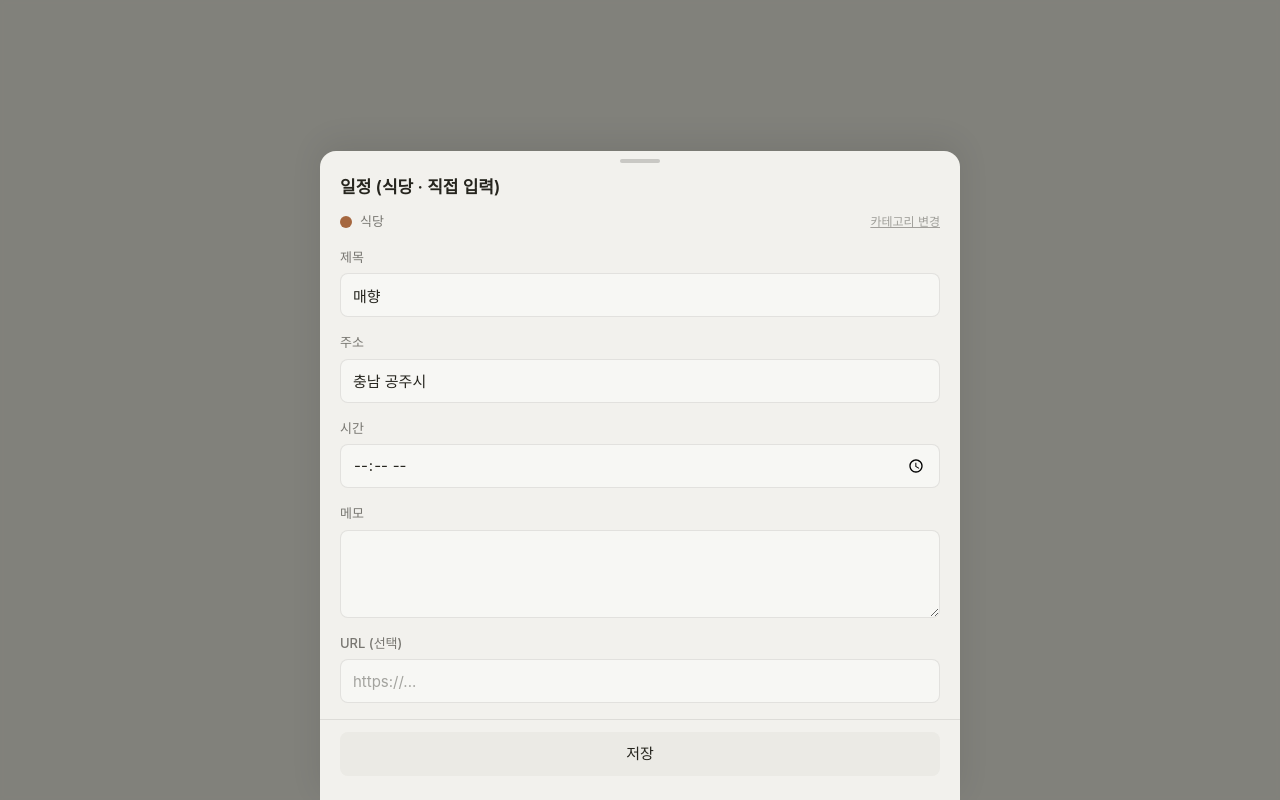
Scenario: schedule-item-modal — 편집 중 카테고리 변경 › 직접 입력(수기 주소) 일정도 카테고리 변경 후 저장이 가능하다
Check: the field labelled "주소" holds "충남 공주시", box [340,358,940,402]
Click the button "카테고리 변경": (905,222) [870,213,940,231]
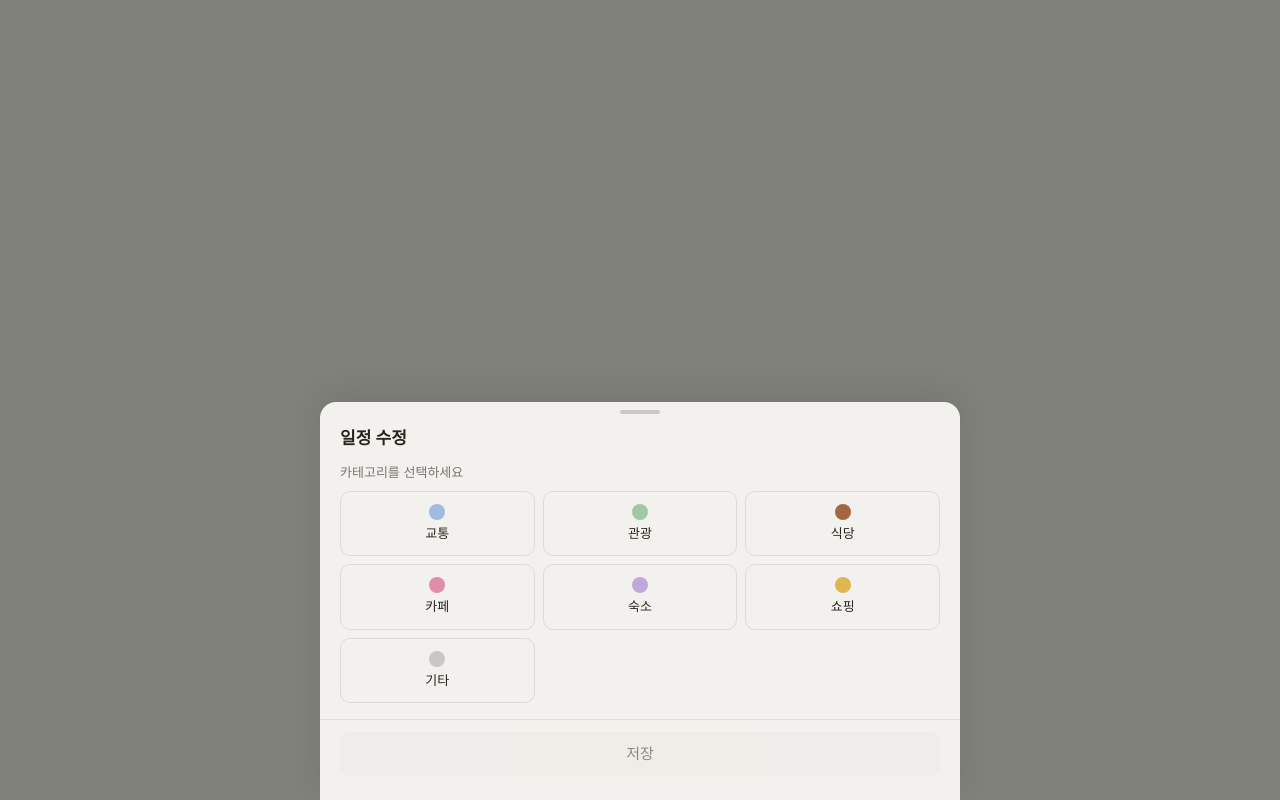
Click the radio button labelled "카페": (437,597) [340,564,535,630]
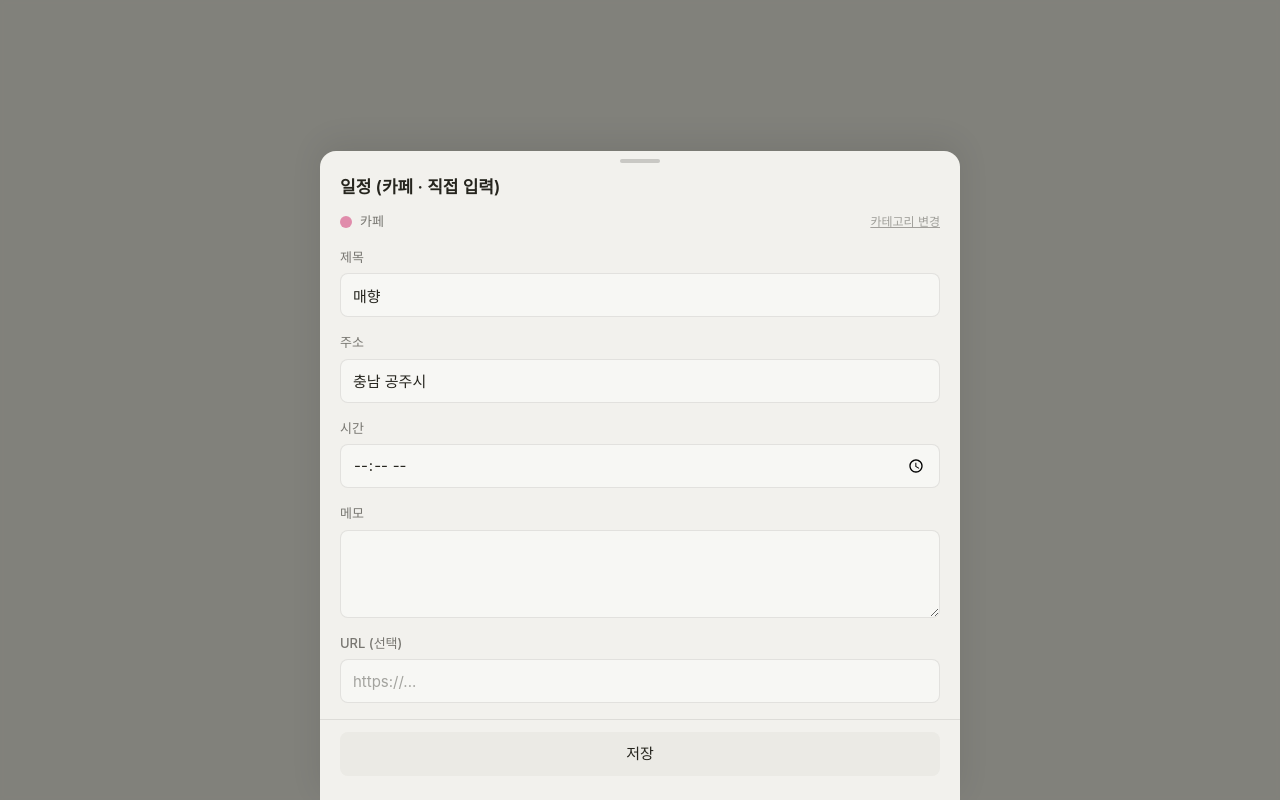
Check: the field labelled "주소" holds "충남 공주시", box [340,358,940,402]
Check: the button "저장" is enabled, box [340,732,940,776]
